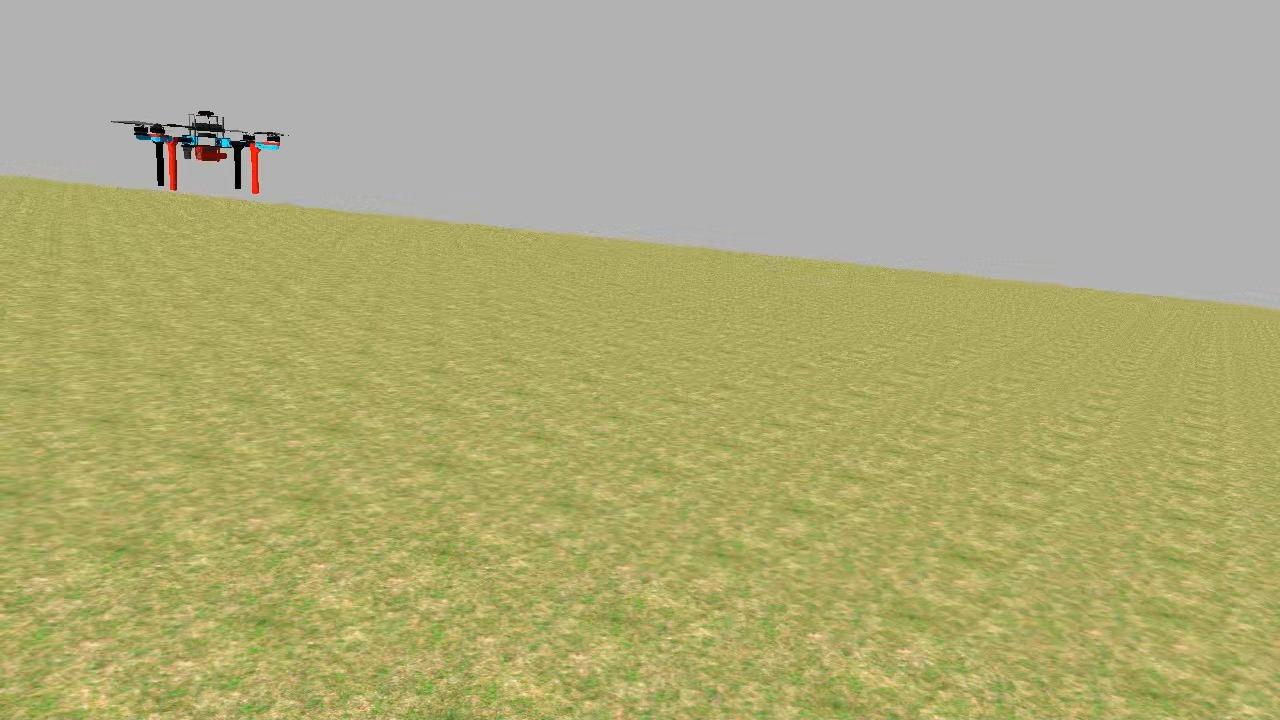UAV: (120, 98, 290, 203)
